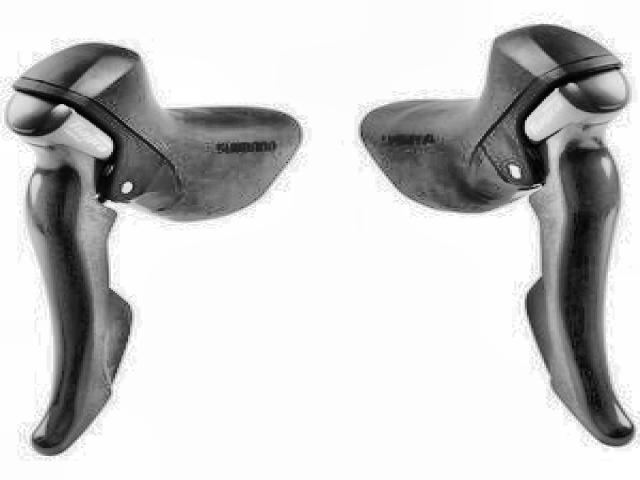sti_shifter: (351, 24, 640, 449), (5, 36, 295, 454)
